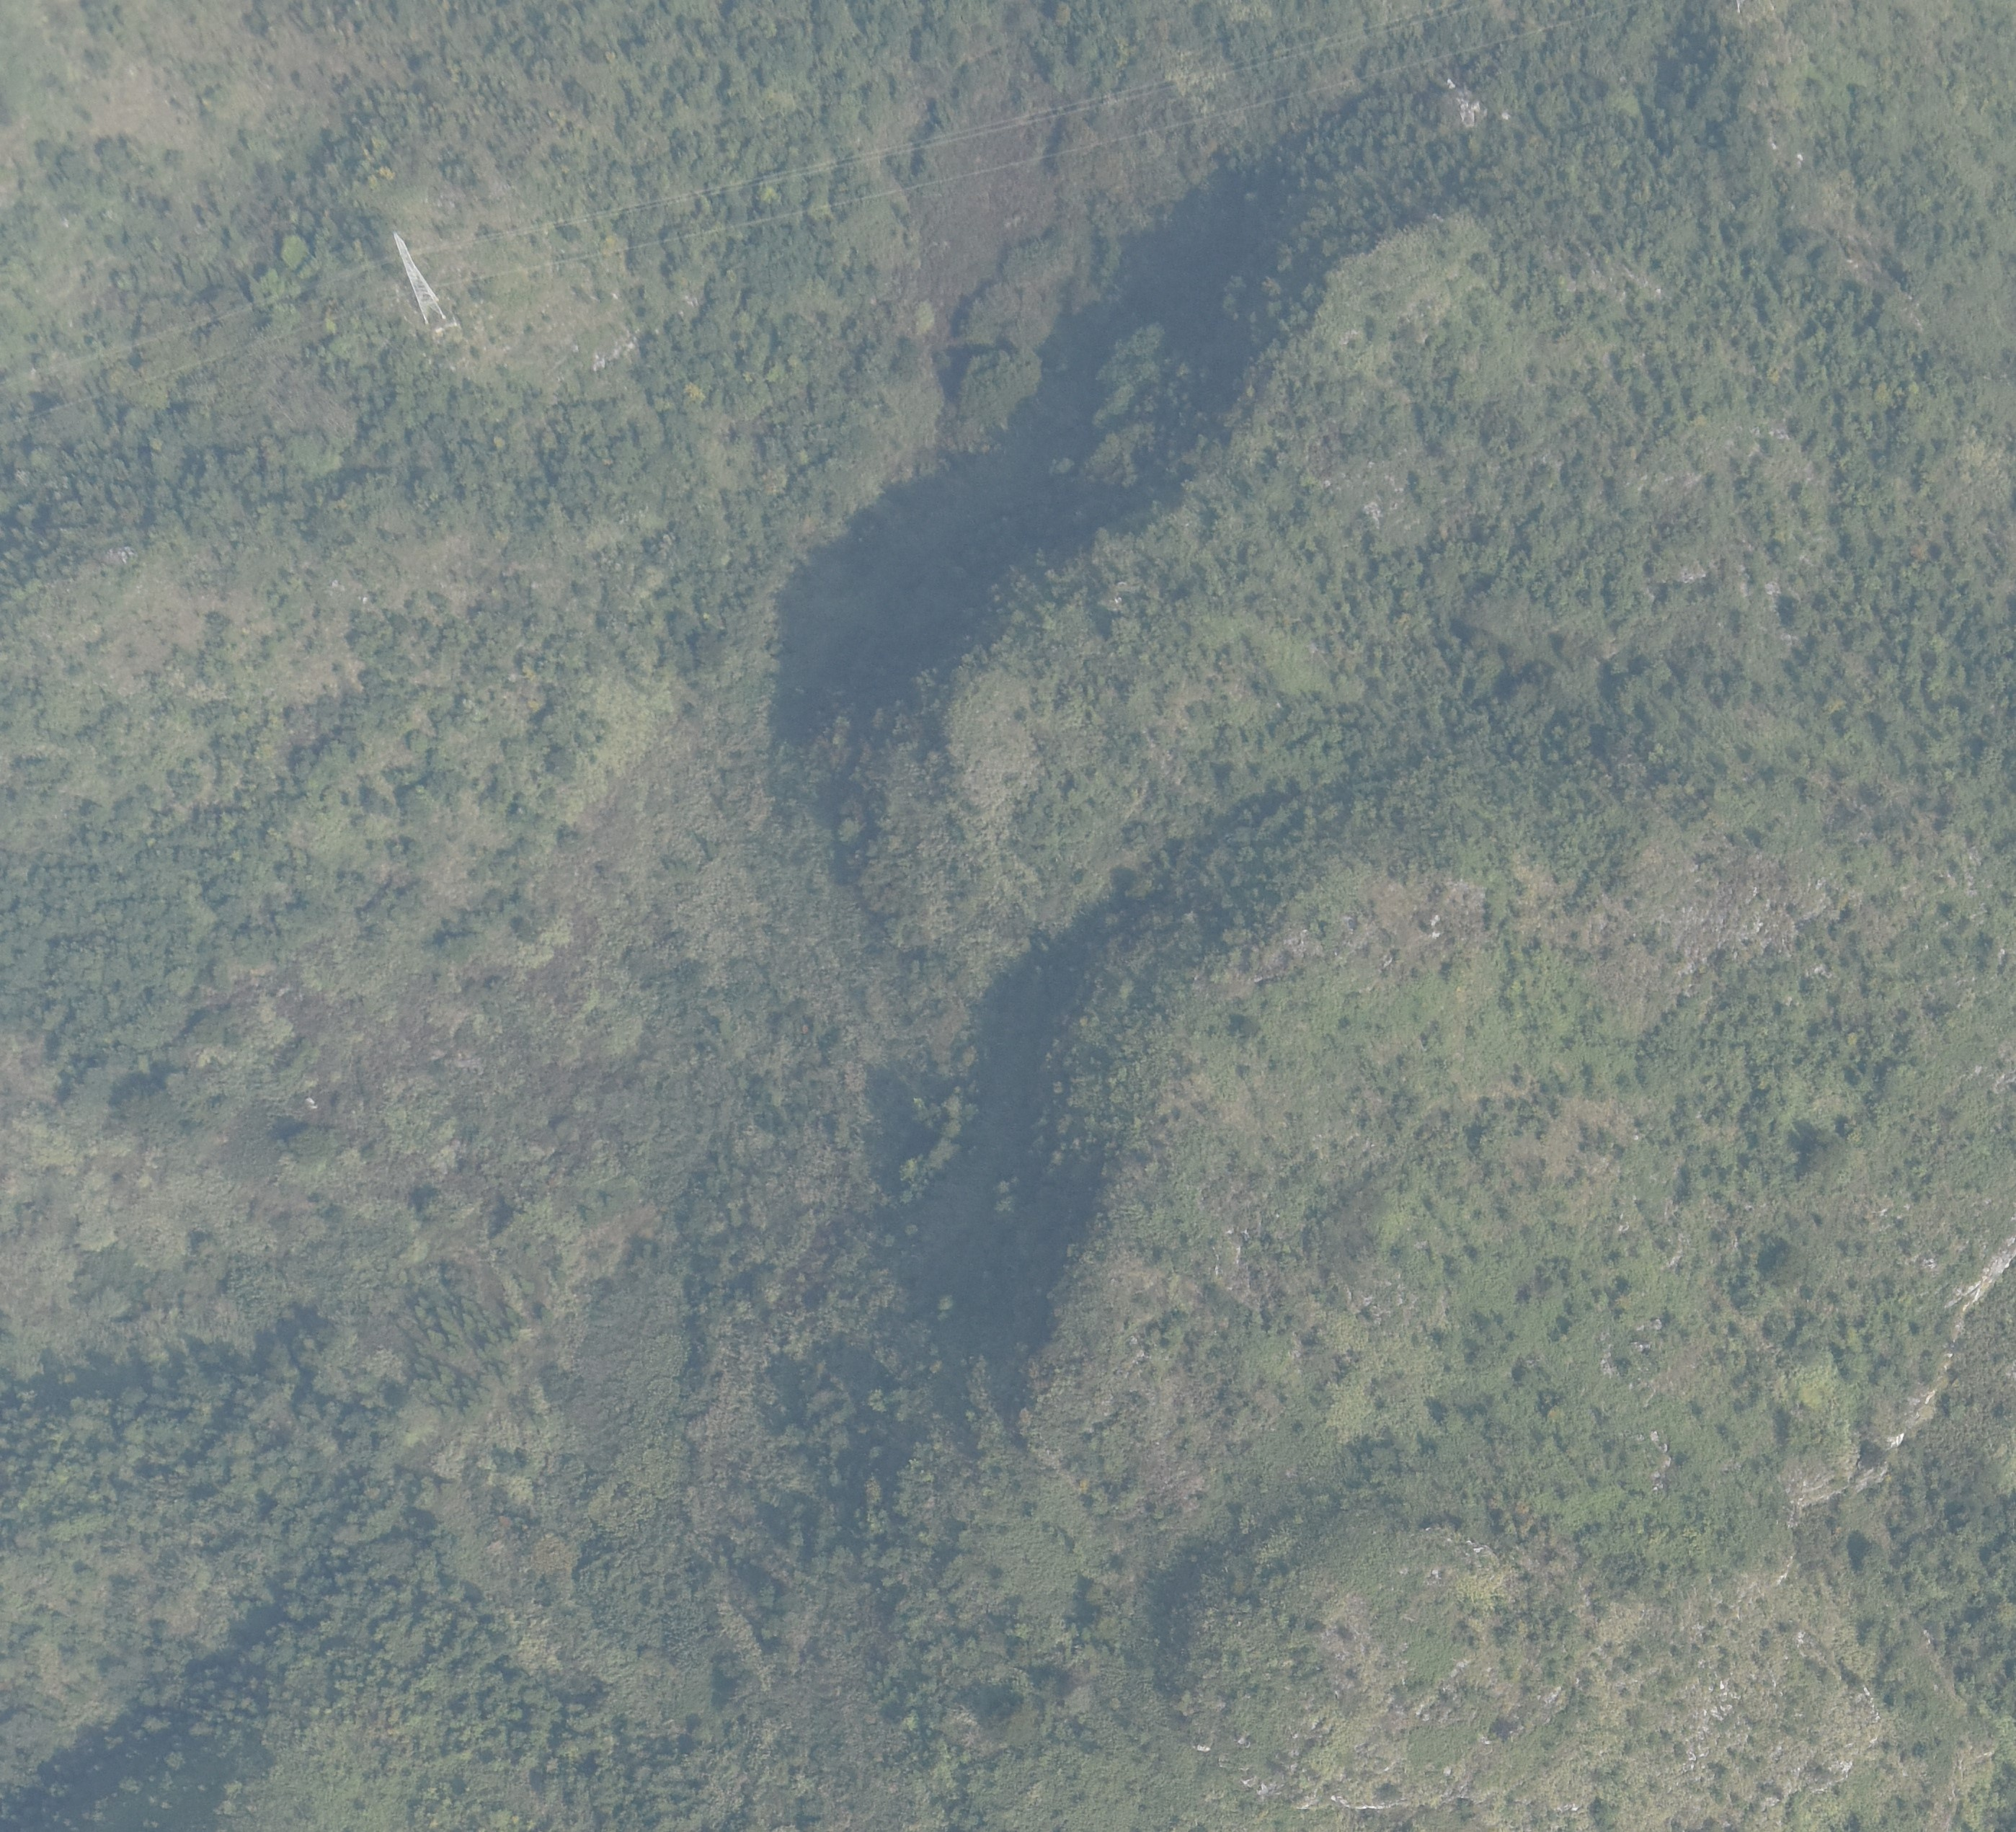cable-tower: (394, 231, 444, 322)
